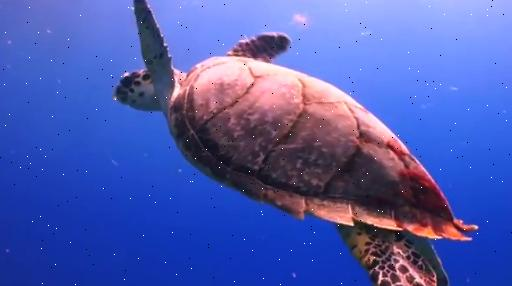Fish: (115, 0, 475, 285)
